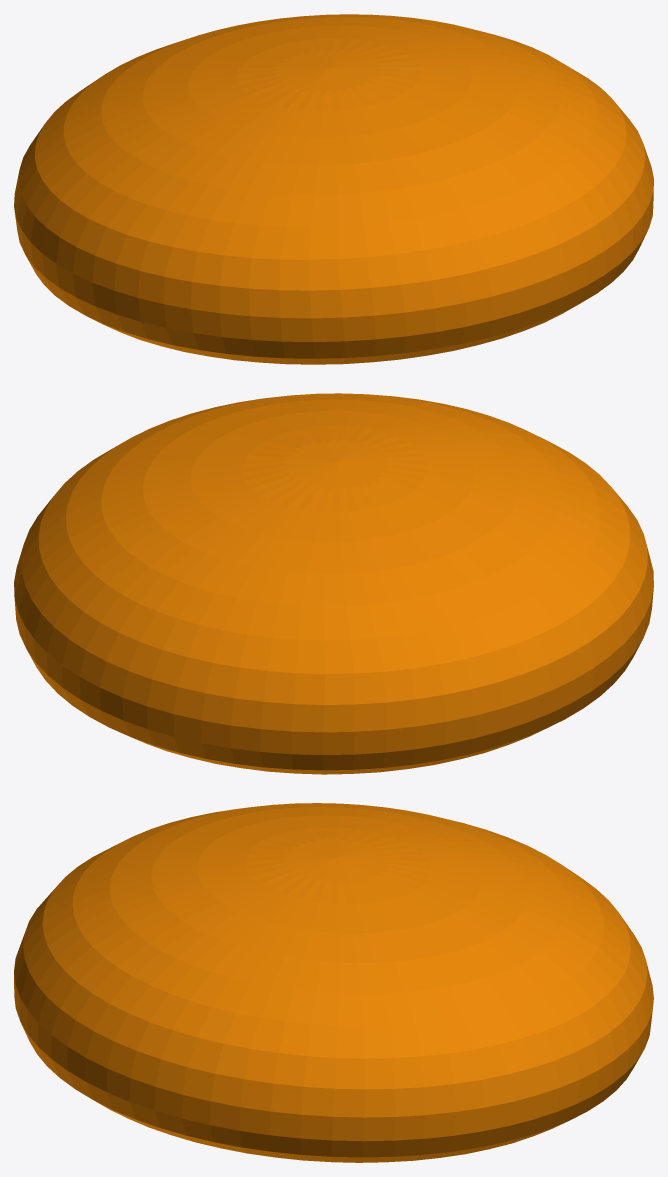
The model's file is susamsızekmek.fbx.
3 views of the same model, one above another, from view 1: azimuth 30°, elevation 25°; view 2: azimuth 150°, elevation 25°; view 3: azimuth 270°, elevation 25° (orthographic).
Parts seen in each view (by area): view 1: Cylinder.006; view 2: Cylinder.006; view 3: Cylinder.006.
Boxes of the visible parts, left/top/right/bottom form: Cylinder.006: left=14, top=14, right=653, bottom=364; Cylinder.006: left=14, top=393, right=653, bottom=774; Cylinder.006: left=14, top=803, right=653, bottom=1162.
Size of the model in its own units: 195 by 68.45 by 195.
